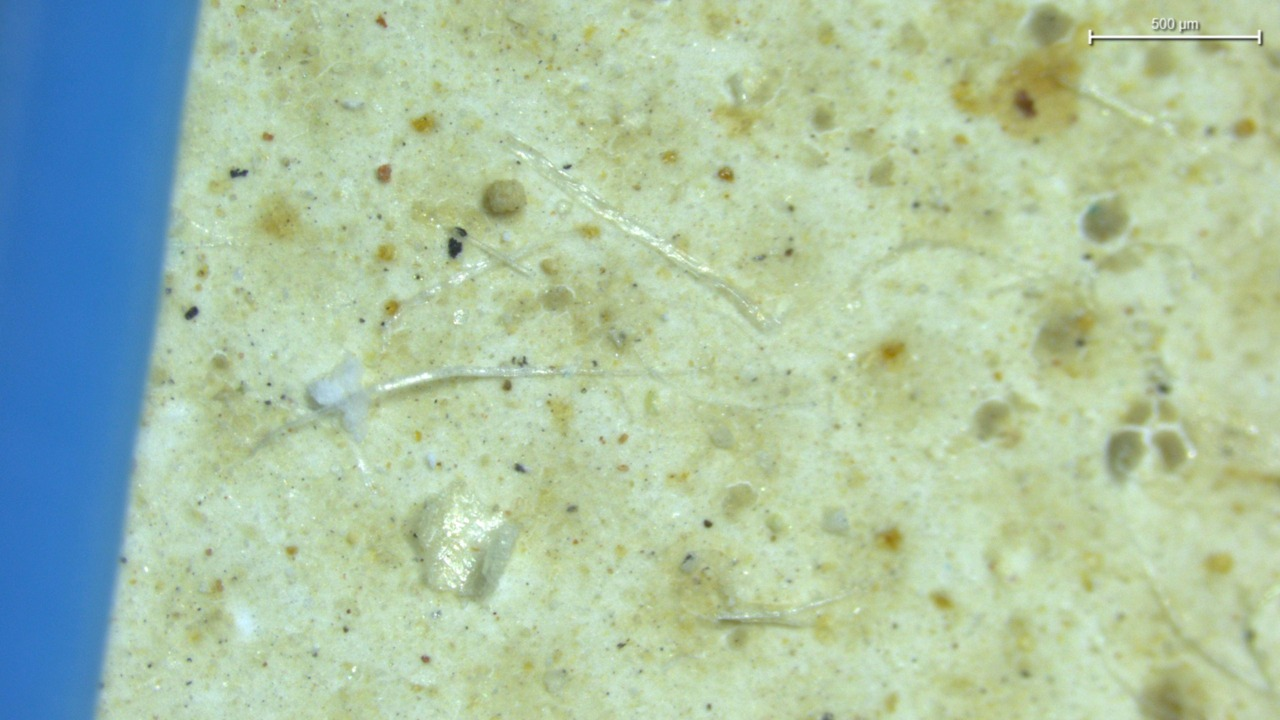microplastic_fragment: (412, 480, 518, 599), (307, 357, 371, 441), (482, 179, 526, 215)
